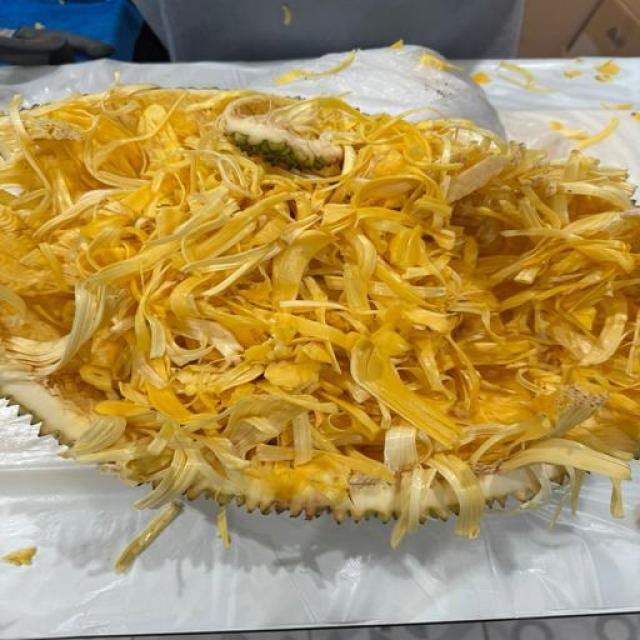organic: (0, 0, 640, 640), (230, 133, 326, 169)
